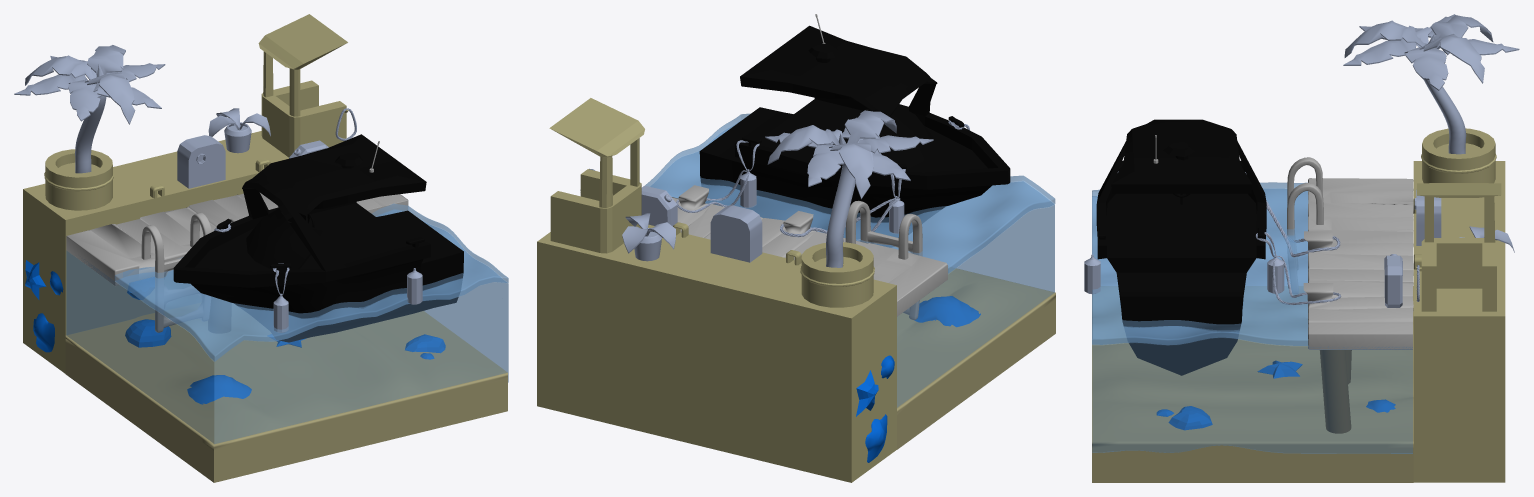
Rendered from frThisShitFinnaWork2.fbx.
The picture shows the model from 3 angles, left to right: view 1: azimuth 30°, elevation 25°; view 2: azimuth 150°, elevation 25°; view 3: azimuth 270°, elevation 25°; orthographic projection. The views are drawn at different scales.
Visible parts, largest first — view 1: pPlane17, boat_Obj:pPlane3, polySurface2, PierBlock, polySurface1, pPlane16, WoodPlanks, PierBooth, TreePlanter, GlassPane, Charger, pDisc4 (+12 smaller); view 2: PierBlock, boat_Obj:pPlane3, pPlane17, pPlane16, PierBooth, polySurface2, WoodPlanks, polySurface1, TreePlanter, Charger, extrudedSurface1, GlassPane (+14 smaller); view 3: pPlane17, boat_Obj:pPlane3, polySurface2, PierBlock, WoodPlanks, polySurface1, pPlane16, PierBooth, TreePlanter, Pier3, extrudedSurface1, pPlane4 (+13 smaller).
Part boxes in pixels (bbox=[...]): pPlane17: bbox=[66, 211, 508, 443]; boat_Obj:pPlane3: bbox=[173, 134, 463, 342]; polySurface2: bbox=[66, 303, 504, 444]; PierBlock: bbox=[23, 131, 288, 373]; polySurface1: bbox=[65, 336, 507, 482]; pPlane16: bbox=[114, 203, 508, 361]; WoodPlanks: bbox=[66, 193, 408, 332]; PierBooth: bbox=[258, 14, 348, 157]; TreePlanter: bbox=[44, 149, 113, 210]; GlassPane: bbox=[246, 208, 325, 269]; Charger: bbox=[177, 135, 225, 188]; pDisc4: bbox=[187, 375, 251, 404]; PierBlock: bbox=[537, 222, 896, 482]; boat_Obj:pPlane3: bbox=[699, 25, 1010, 246]; pPlane17: bbox=[651, 125, 1054, 407]; pPlane16: bbox=[645, 113, 1055, 273]; PierBooth: bbox=[549, 98, 644, 253]; polySurface2: bbox=[897, 267, 1055, 408]; WoodPlanks: bbox=[671, 185, 947, 320]; polySurface1: bbox=[897, 293, 1055, 449]; TreePlanter: bbox=[800, 242, 874, 307]; Charger: bbox=[710, 205, 762, 262]; extrudedSurface1: bbox=[826, 163, 855, 267]; GlassPane: bbox=[879, 105, 932, 169]; pPlane17: bbox=[1092, 189, 1412, 453]; boat_Obj:pPlane3: bbox=[1096, 119, 1266, 375]; polySurface2: bbox=[1092, 286, 1413, 441]; PierBlock: bbox=[1413, 161, 1505, 482]; WoodPlanks: bbox=[1287, 157, 1413, 349]; polySurface1: bbox=[1092, 435, 1413, 482]; pPlane16: bbox=[1092, 182, 1308, 345]; PierBooth: bbox=[1415, 183, 1501, 311]; TreePlanter: bbox=[1421, 128, 1496, 183]; Pier3: bbox=[1320, 350, 1351, 433]; extrudedSurface1: bbox=[1423, 44, 1466, 154]; pPlane4: bbox=[1404, 47, 1448, 90].
Size of the model in its own units: 8.89 by 7.75 by 9.48.
